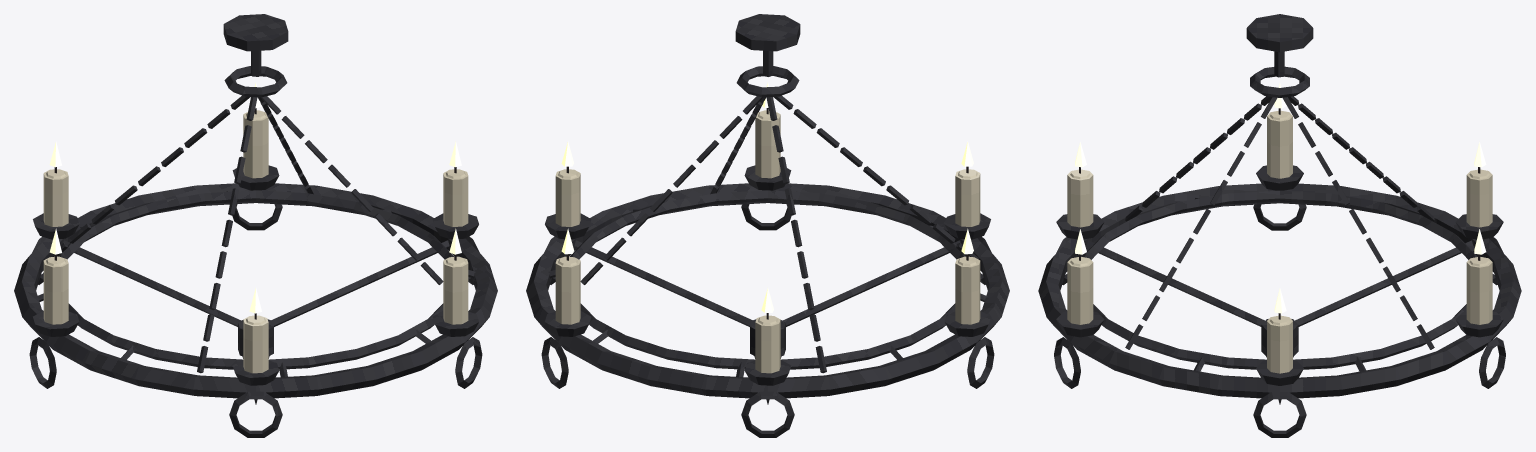
File: castle_chandelier.glb
3 renders of one model, left to right at view 1: azimuth 30°, elevation 25°; view 2: azimuth 150°, elevation 25°; view 3: azimuth 270°, elevation 25°, orthographic.
Parts seen in each view (by area): view 1: body, lamp_on; view 2: body, lamp_on; view 3: body, lamp_on.
Part boxes in pixels (x1=…): body: x1=14, y1=14, x2=497, y2=437; lamp_on: x1=49, y1=83, x2=461, y2=313; body: x1=526, y1=14, x2=1009, y2=437; lamp_on: x1=561, y1=83, x2=973, y2=313; body: x1=1038, y1=14, x2=1521, y2=437; lamp_on: x1=1075, y1=83, x2=1486, y2=313.
Size of the model in its own units: 1.37 by 1.12 by 1.3.
Materials: 5 (3 with a texture image).
